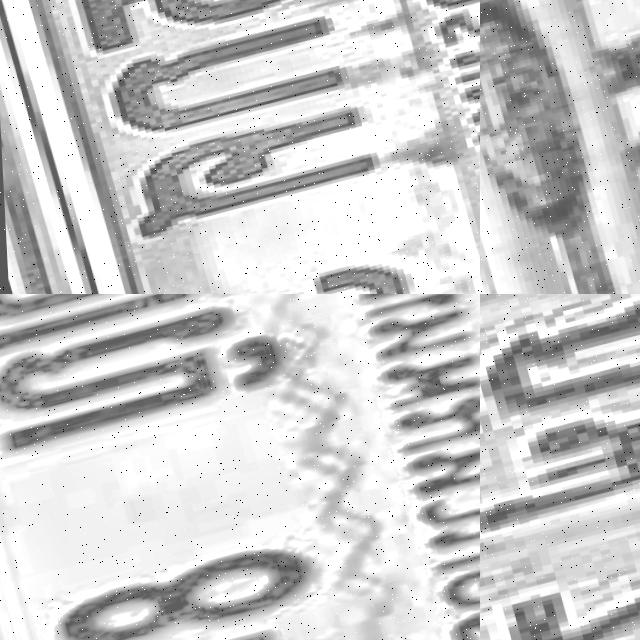license-plate: (0, 294, 480, 640), (0, 0, 480, 294), (480, 294, 640, 640), (480, 0, 640, 294)
